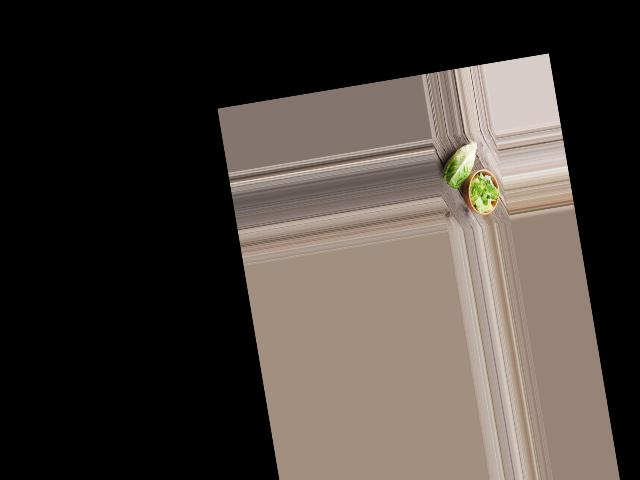lettuce: (437, 142, 483, 190)
